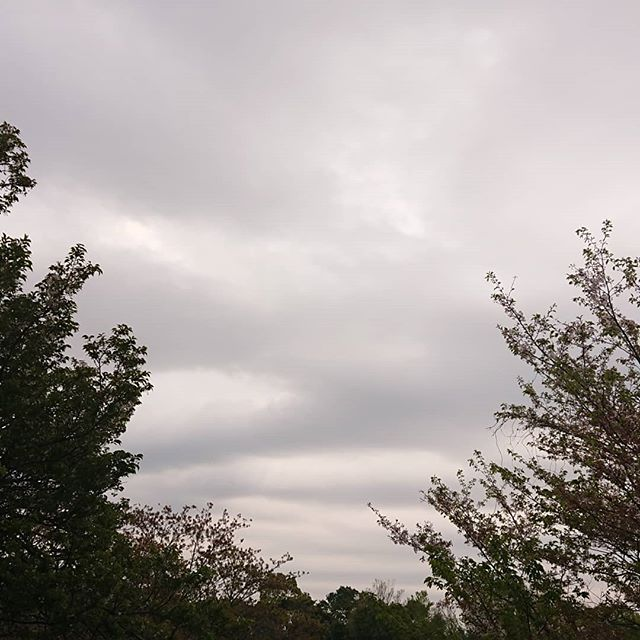building: (1, 1, 640, 586)
tree: (396, 265, 640, 640), (1, 116, 152, 640)
